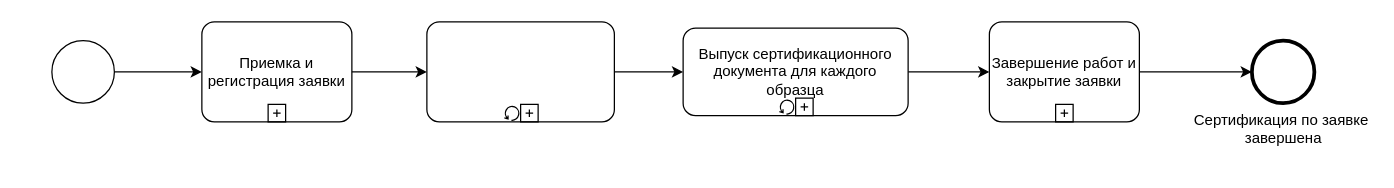
The diagram is 1394 pixels wide and 188 high, and some of its shapes have lost their labels. The shapes that lost their labels are listed below. From the top down, each one's centre as x and y in pixels, then its label:
At pixel 82 71: "Клиенту нужно сертифицировать образцы".
At pixel 520 71: "Оценка каждого образца".
